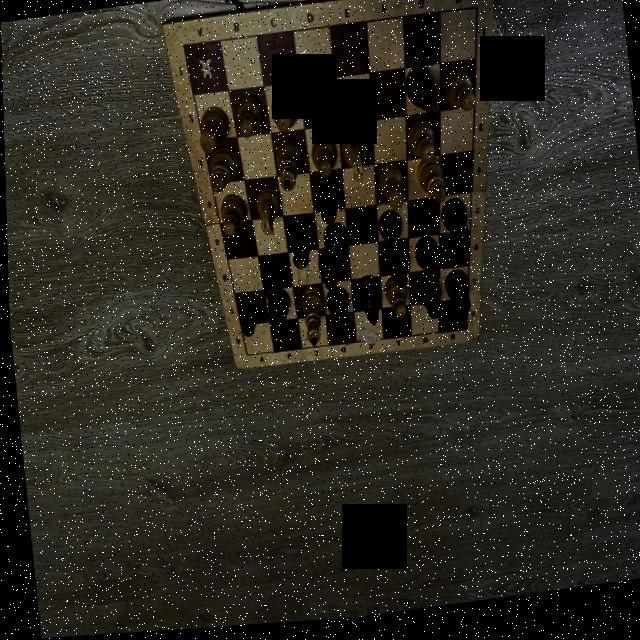chess-table-corners: (472, 9, 482, 19), (179, 42, 187, 54), (242, 354, 248, 362), (462, 332, 466, 339)
